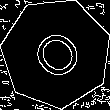O_SE: (23, 20, 89, 87)
